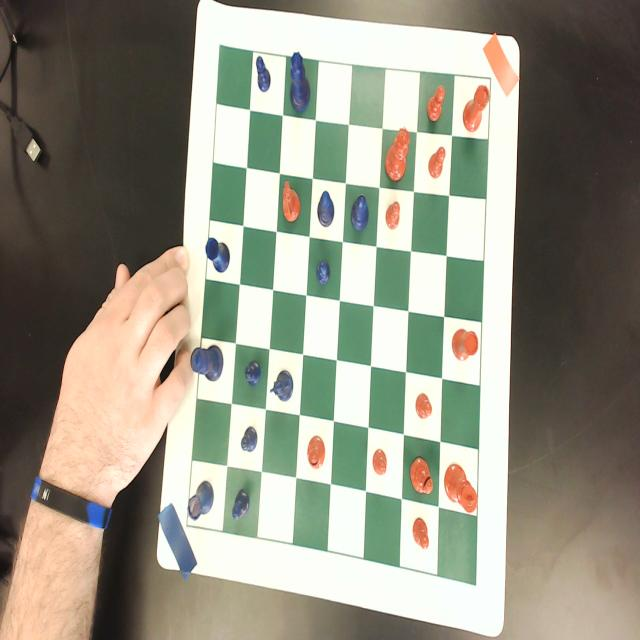B: (350, 194, 370, 232), (316, 190, 335, 229)
K: (190, 343, 224, 383)
N: (270, 370, 294, 403)
P: (256, 55, 272, 92), (232, 489, 250, 521), (240, 426, 258, 454), (244, 360, 262, 388), (316, 259, 330, 287)
Q: (290, 51, 310, 112)
R: (188, 479, 215, 522), (204, 237, 230, 273)
b: (409, 456, 434, 497), (306, 435, 326, 470)
cb: (187, 45, 491, 585)
k: (444, 462, 478, 512)
n: (282, 179, 300, 224)
p: (426, 84, 446, 122), (412, 516, 429, 550), (428, 146, 446, 178), (416, 392, 432, 420), (385, 201, 400, 230), (372, 448, 387, 476)
q: (384, 127, 410, 183)
r: (462, 83, 490, 133), (452, 326, 479, 364)
